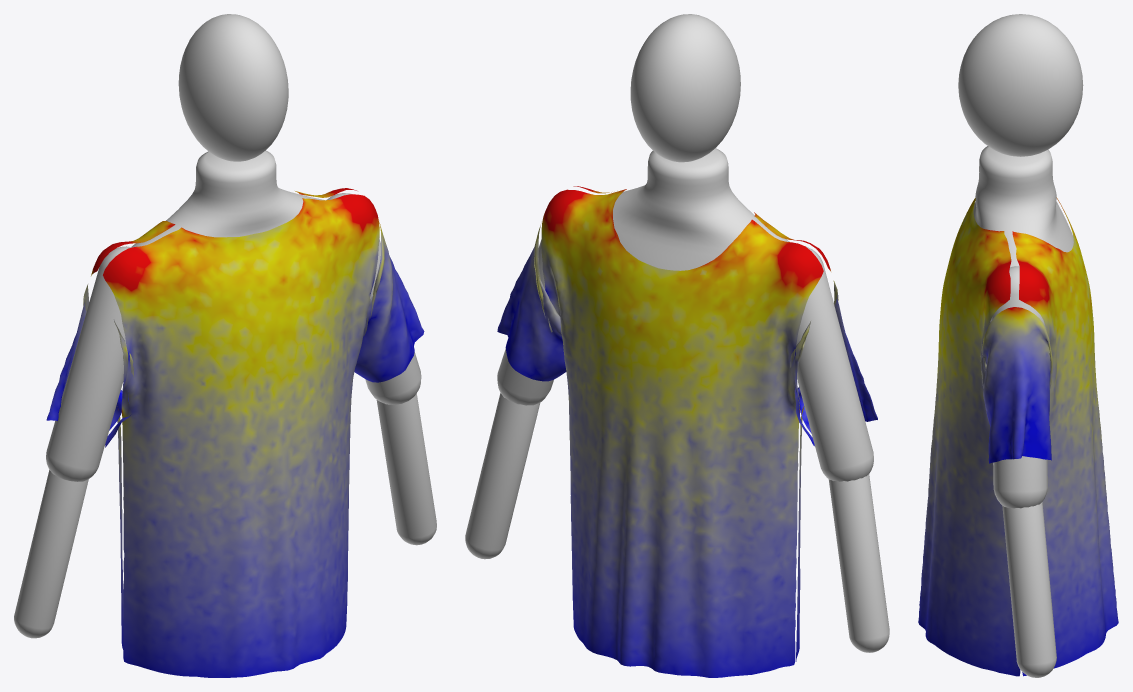
Rendered from tshirt_avatar_strain.glb.
3 views of the same model, side by side, from view 1: azimuth 30°, elevation 25°; view 2: azimuth 150°, elevation 25°; view 3: azimuth 270°, elevation 25° (orthographic). The views are drawn at different scales.
Visible parts, largest first — view 1: BACK, avatar_head, avatar_arm2, avatar_torso, avatar_arm3, avatar_arm1, SLEEVE_R, SLEEVE_L, avatar_arm0, FRONT; view 2: FRONT, avatar_head, avatar_torso, avatar_arm2, avatar_arm3, avatar_arm1, SLEEVE_R, SLEEVE_L, avatar_arm0, BACK; view 3: BACK, FRONT, avatar_head, SLEEVE_R, avatar_torso, avatar_arm1, avatar_arm0.
Part boxes in pixels (box(x1,y1,x2,y2)): BACK: box(103, 194, 379, 677); avatar_head: box(178, 14, 288, 161); avatar_arm2: box(46, 246, 131, 481); avatar_torso: box(131, 150, 324, 247); avatar_arm3: box(14, 470, 88, 638); avatar_arm1: box(376, 393, 436, 545); SLEEVE_R: box(354, 223, 424, 382); SLEEVE_L: box(46, 284, 133, 447); avatar_arm0: box(326, 193, 421, 404); FRONT: box(91, 188, 356, 649); FRONT: box(541, 189, 823, 677); avatar_head: box(630, 14, 740, 162); avatar_torso: box(613, 148, 789, 270); avatar_arm2: box(796, 246, 873, 481); avatar_arm3: box(828, 474, 889, 652); avatar_arm1: box(465, 393, 540, 559); SLEEVE_R: box(497, 225, 566, 381); SLEEVE_L: box(790, 280, 877, 446); avatar_arm0: box(497, 240, 553, 405); BACK: box(573, 186, 830, 661); BACK: box(918, 198, 1020, 676); FRONT: box(1012, 197, 1118, 676); avatar_head: box(958, 14, 1083, 156); SLEEVE_R: box(981, 307, 1052, 463); avatar_torso: box(973, 146, 1073, 327); avatar_arm1: box(1002, 502, 1056, 677); avatar_arm0: box(990, 266, 1047, 508).
Bounding box in the file's own units: 74.31 × 105 × 31.45.
